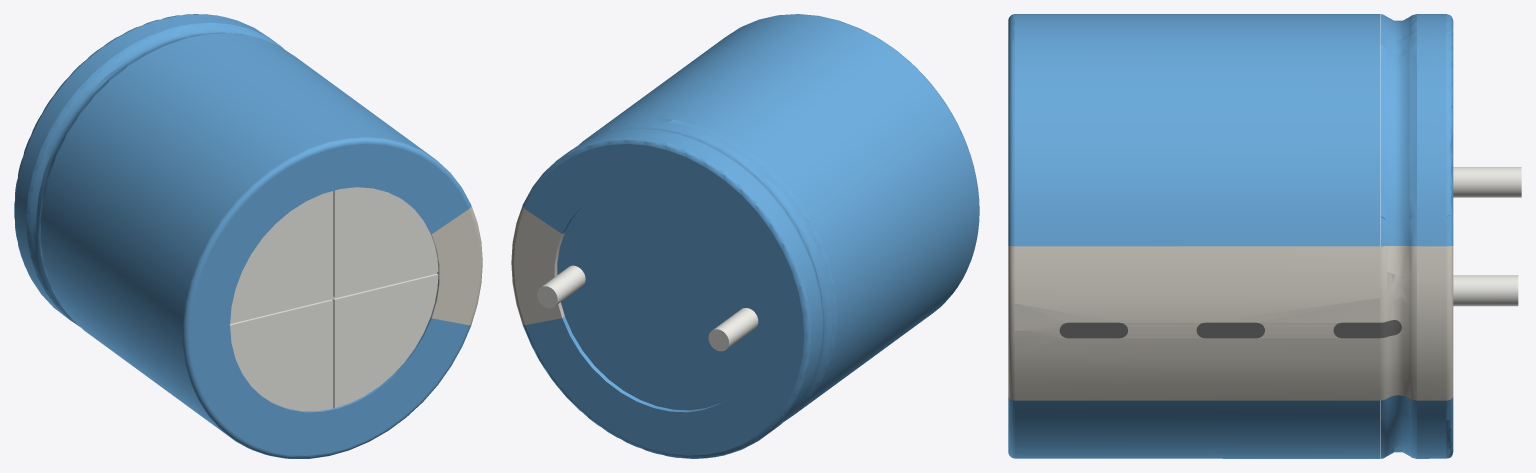
The model's file is CP_Radial_D13.0mm_P7.50mm.glb.
3 renders of one model, left to right at view 1: azimuth 30°, elevation 25°; view 2: azimuth 150°, elevation 25°; view 3: azimuth 270°, elevation 25°, orthographic. The views are drawn at different scales.
Parts seen in each view (by area): view 1: Shape_IndexedFaceSet.021, Shape_IndexedFaceSet.029, Shape_IndexedFaceSet.033, Shape_IndexedFaceSet.035, Shape_IndexedFaceSet.039, Shape_IndexedFaceSet.042, Shape_IndexedFaceSet.011, Shape_IndexedFaceSet.024, Shape_IndexedFaceSet.030, Shape_IndexedFaceSet.015, Shape_IndexedFaceSet.013, Shape_IndexedFaceSet.036 (+2 smaller); view 2: Shape_IndexedFaceSet.021, Shape_IndexedFaceSet.002, Shape_IndexedFaceSet.006, Shape_IndexedFaceSet.011, Shape_IndexedFaceSet.009, Shape_IndexedFaceSet.015, Shape_IndexedFaceSet.007, Shape_IndexedFaceSet.017, Shape_IndexedFaceSet.005, Shape_IndexedFaceSet.001, Shape_IndexedFaceSet.003, Shape_IndexedFaceSet.013 (+1 smaller); view 3: Shape_IndexedFaceSet.021, Shape_IndexedFaceSet.023, Shape_IndexedFaceSet.011, Shape_IndexedFaceSet.015, Shape_IndexedFaceSet.012, Shape_IndexedFaceSet.016, Shape_IndexedFaceSet.013, Shape_IndexedFaceSet.017, Shape_IndexedFaceSet.009, Shape_IndexedFaceSet.005, Shape_IndexedFaceSet.001, Shape_IndexedFaceSet.024 (+7 smaller).
Boxes of the visible parts, <box> form: Shape_IndexedFaceSet.021: <box>40,33,434,434</box>; Shape_IndexedFaceSet.029: <box>189,144,468,455</box>; Shape_IndexedFaceSet.033: <box>334,274,438,407</box>; Shape_IndexedFaceSet.035: <box>334,187,438,297</box>; Shape_IndexedFaceSet.039: <box>230,300,332,411</box>; Shape_IndexedFaceSet.042: <box>230,191,332,322</box>; Shape_IndexedFaceSet.011: <box>15,14,277,318</box>; Shape_IndexedFaceSet.024: <box>182,137,471,458</box>; Shape_IndexedFaceSet.030: <box>432,209,479,325</box>; Shape_IndexedFaceSet.015: <box>31,26,272,315</box>; Shape_IndexedFaceSet.013: <box>26,22,284,327</box>; Shape_IndexedFaceSet.036: <box>230,191,436,407</box>; Shape_IndexedFaceSet.021: <box>585,14,978,413</box>; Shape_IndexedFaceSet.002: <box>557,187,763,410</box>; Shape_IndexedFaceSet.006: <box>525,144,803,455</box>; Shape_IndexedFaceSet.011: <box>559,128,822,436</box>; Shape_IndexedFaceSet.009: <box>522,137,810,458</box>; Shape_IndexedFaceSet.015: <box>591,122,832,410</box>; Shape_IndexedFaceSet.007: <box>514,209,561,324</box>; Shape_IndexedFaceSet.017: <box>579,118,836,421</box>; Shape_IndexedFaceSet.005: <box>713,308,758,348</box>; Shape_IndexedFaceSet.001: <box>542,265,585,305</box>; Shape_IndexedFaceSet.003: <box>562,207,731,412</box>; Shape_IndexedFaceSet.013: <box>631,128,823,407</box>; Shape_IndexedFaceSet.021: <box>1015,14,1379,458</box>; Shape_IndexedFaceSet.023: <box>1015,246,1379,400</box>; Shape_IndexedFaceSet.011: <box>1417,14,1446,458</box>; Shape_IndexedFaceSet.015: <box>1387,17,1409,455</box>; Shape_IndexedFaceSet.012: <box>1417,246,1446,400</box>; Shape_IndexedFaceSet.016: <box>1387,246,1409,398</box>; Shape_IndexedFaceSet.013: <box>1409,14,1416,458</box>; Shape_IndexedFaceSet.017: <box>1380,14,1387,458</box>; Shape_IndexedFaceSet.009: <box>1446,14,1453,458</box>; Shape_IndexedFaceSet.005: <box>1453,167,1521,197</box>; Shape_IndexedFaceSet.001: <box>1453,275,1518,306</box>; Shape_IndexedFaceSet.024: <box>1008,14,1014,458</box>.
Bounding box in the file's own units: 5.12 × 5.12 × 5.91.
